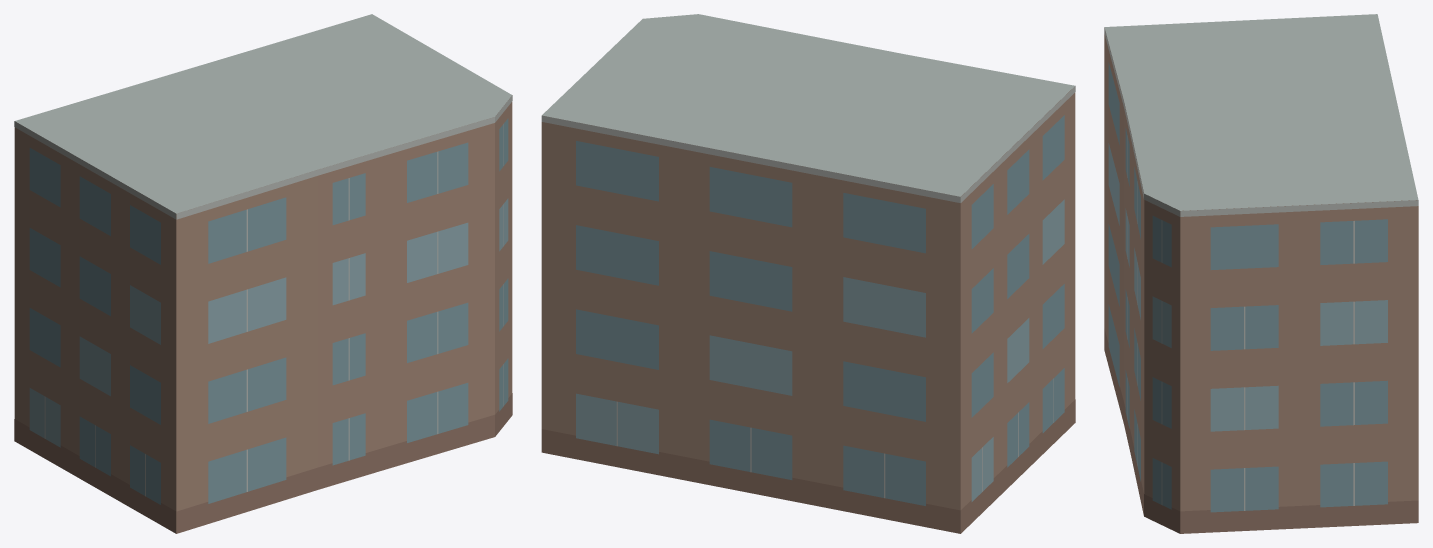
The model's file is survey-upis-32962392.glb.
3 renders of one model, left to right at view 1: azimuth 30°, elevation 25°; view 2: azimuth 150°, elevation 25°; view 3: azimuth 270°, elevation 25°, orthographic. The views are drawn at different scales.
Visible parts, largest first — view 1: survey-upis-32962392.tmp; view 2: survey-upis-32962392.tmp; view 3: survey-upis-32962392.tmp.
Part boxes in pixels (bbox=[...]): survey-upis-32962392.tmp: bbox=[14, 14, 512, 533]; survey-upis-32962392.tmp: bbox=[541, 14, 1075, 533]; survey-upis-32962392.tmp: bbox=[1104, 14, 1418, 533].
Size of the model in its own units: 16.87 by 12.9 by 11.38.
